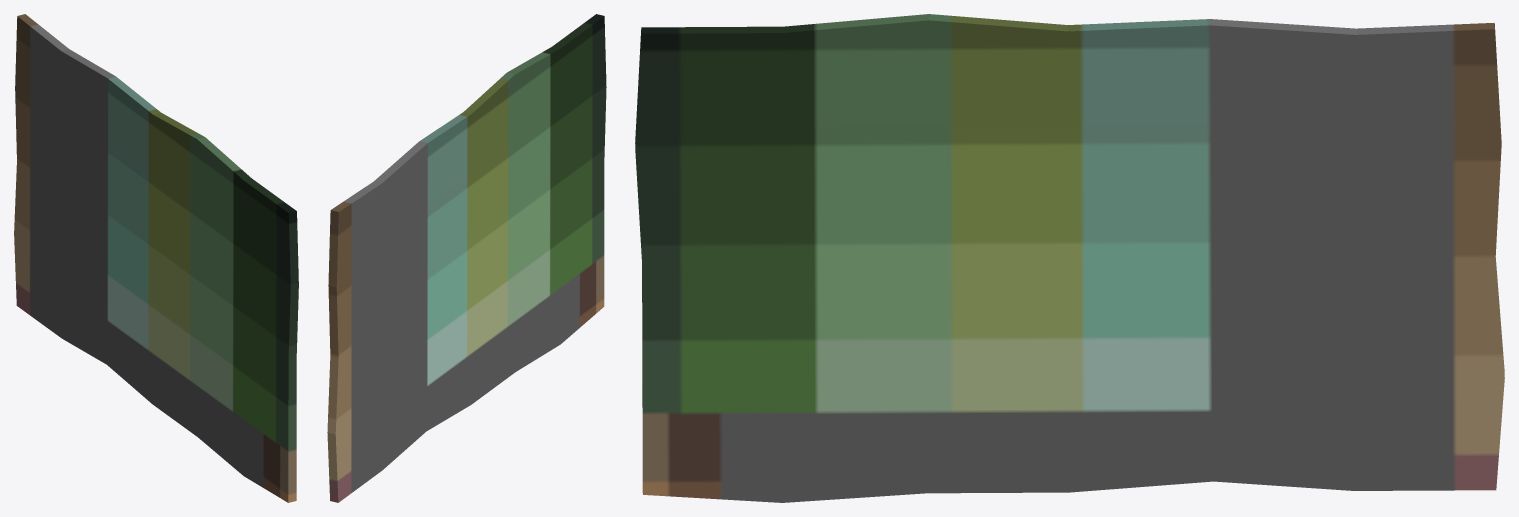
File: SM_Flag_Pirate_02.glb
3 renders of one model, left to right at view 1: azimuth 30°, elevation 25°; view 2: azimuth 150°, elevation 25°; view 3: azimuth 270°, elevation 25°, orthographic. The views are drawn at different scales.
Visible parts, largest first — view 1: SM_Flag_Pirate_02_00; view 2: SM_Flag_Pirate_02_00; view 3: SM_Flag_Pirate_02_00.
Part boxes in pixels (x1,y1,x2,y2): SM_Flag_Pirate_02_00: [14, 14, 298, 502]; SM_Flag_Pirate_02_00: [327, 14, 606, 502]; SM_Flag_Pirate_02_00: [635, 14, 1504, 502].
Bounding box in the file's own units: 0.0557 × 1.42 × 2.32.
Materials: 1 (1 with a texture image).
